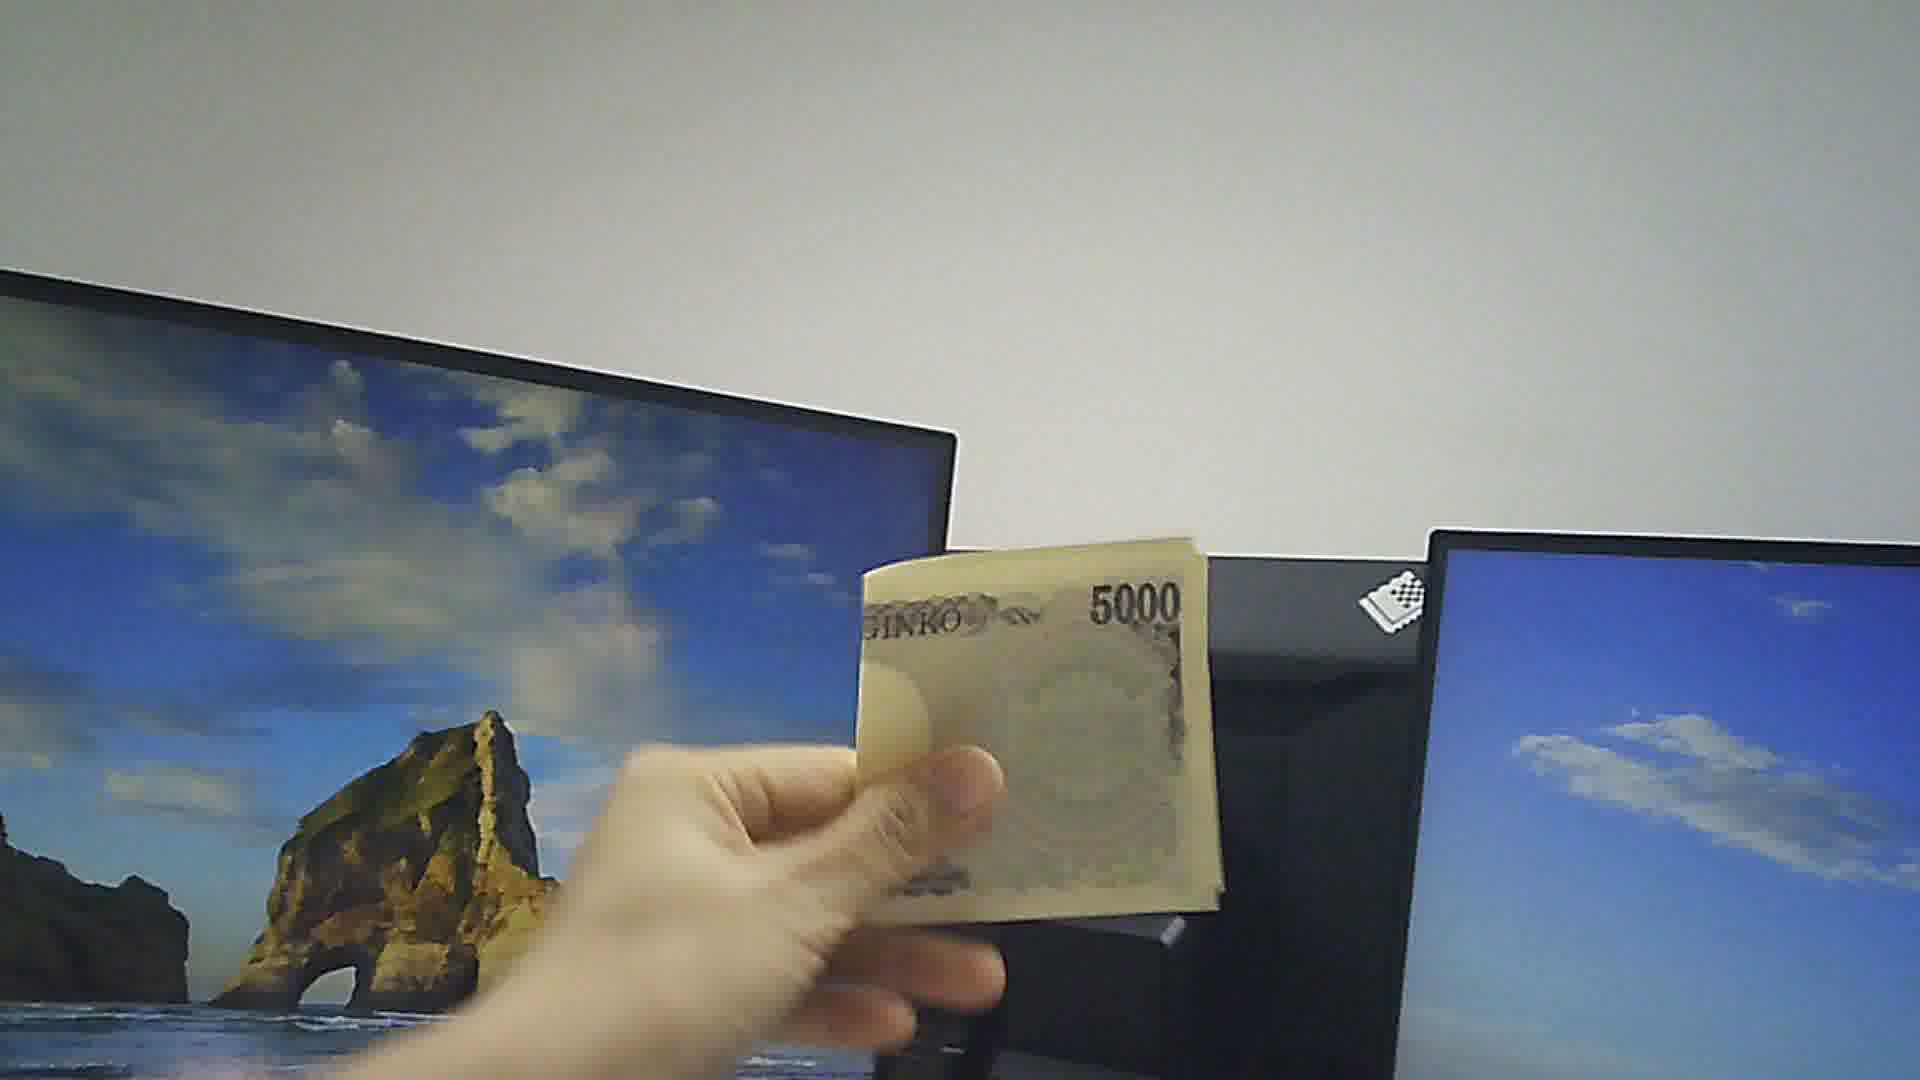5,000 Yen: (820, 541, 1244, 934)
